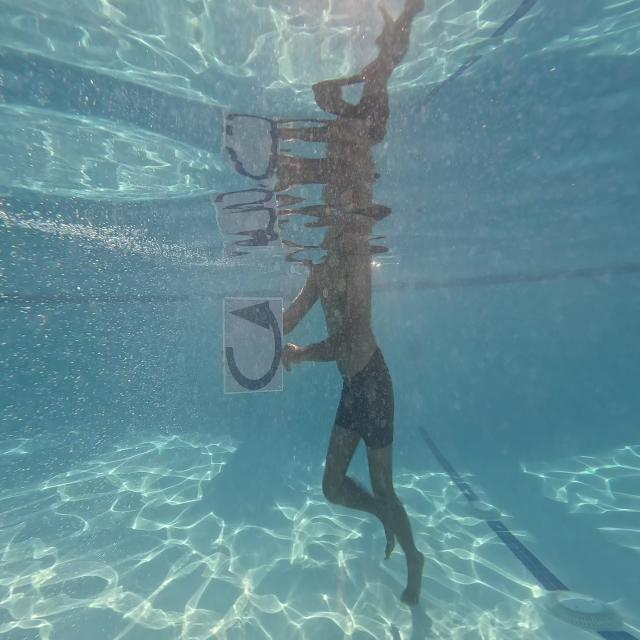blue_side: (221, 292, 284, 398)
